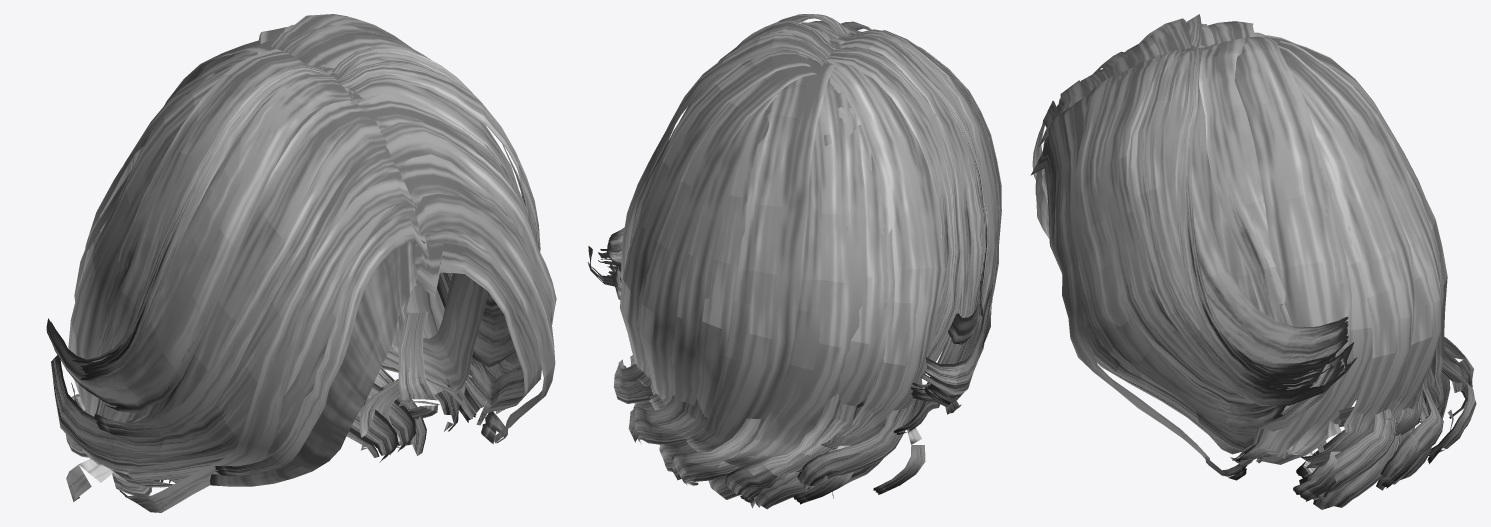
File: daz_hair_wavy_bob.glb
3 renders of one model, left to right at view 1: azimuth 30°, elevation 25°; view 2: azimuth 150°, elevation 25°; view 3: azimuth 270°, elevation 25°, orthographic. The views are drawn at different scales.
Parts seen in each view (by area): view 1: daz_hair_wavy_bob; view 2: daz_hair_wavy_bob; view 3: daz_hair_wavy_bob.
Part boxes in pixels (box(x1,y1,x2,y2)): daz_hair_wavy_bob: box(46, 14, 556, 512); daz_hair_wavy_bob: box(587, 14, 1001, 509); daz_hair_wavy_bob: box(1030, 14, 1476, 509).
Bounding box in the file's own units: 0.2517 × 0.2485 × 0.2373.
Materials: 1 (1 with a texture image).
